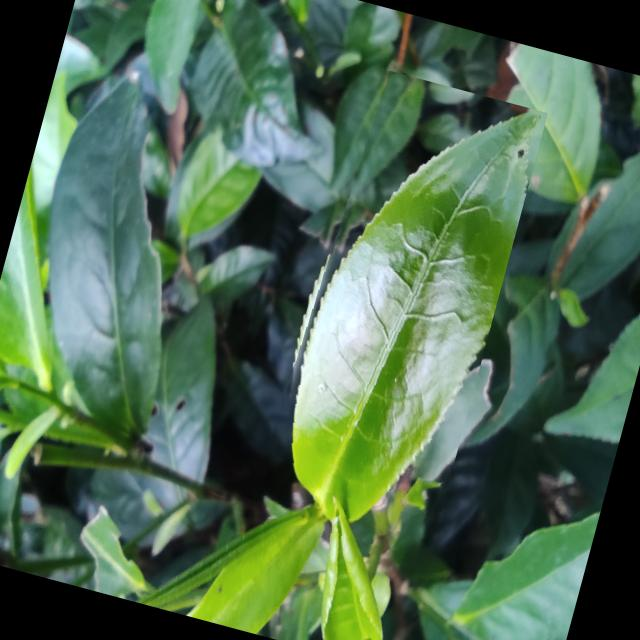Category B(2-4 days): (244, 63, 548, 568)
